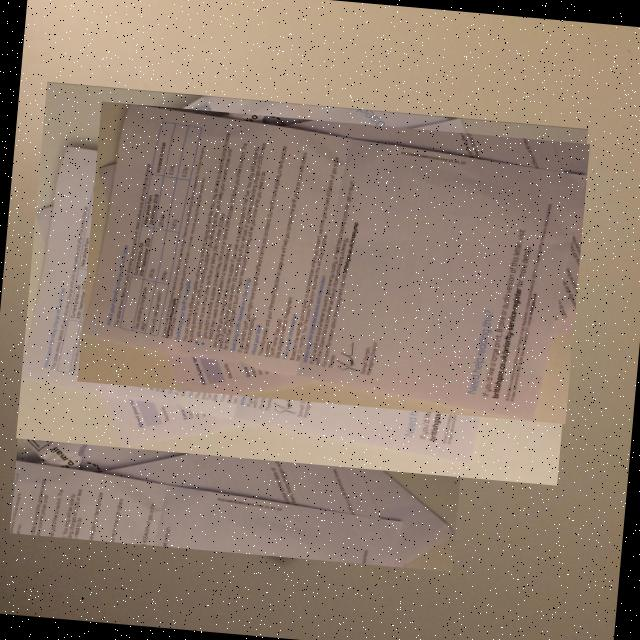Normal paper: (35, 119, 567, 447), (81, 104, 586, 421), (19, 315, 455, 567)
